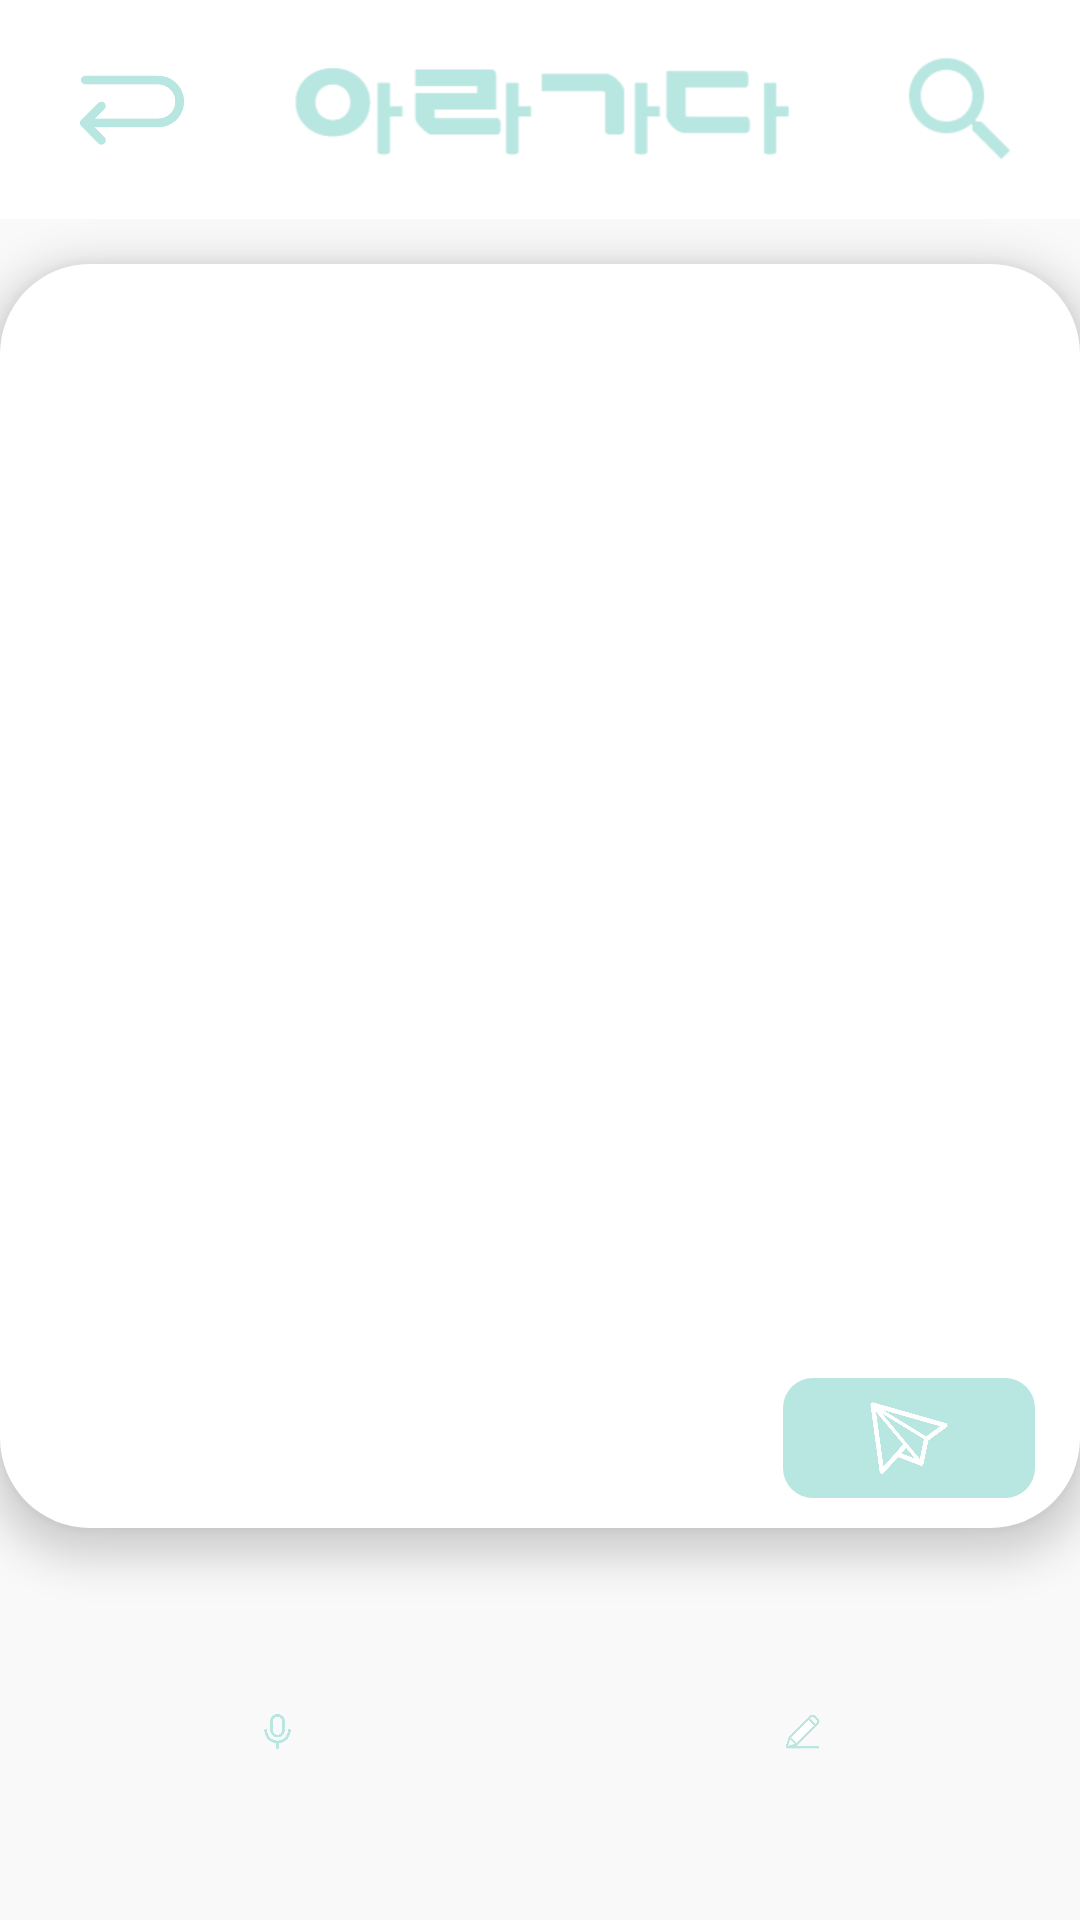

Icon click points for this 1080*1920 phone screenshot, format point (x, y):
back: point (132, 110)
mic: point (277, 1731)
pen: point (803, 1731)
search: point (959, 108)
send: point (909, 1438)
